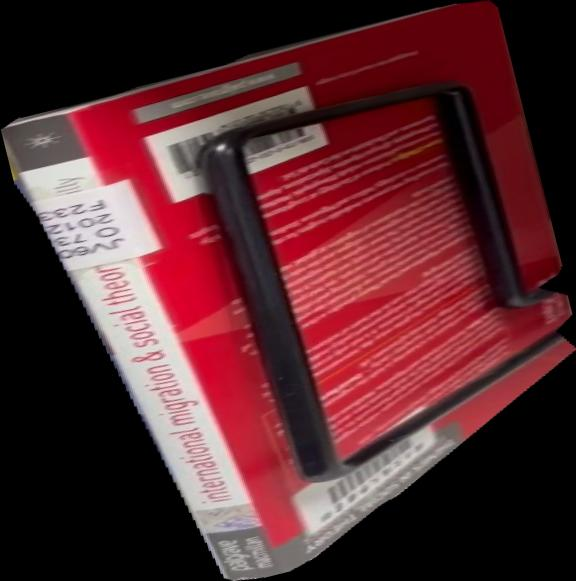reverse: (1, 1, 576, 581)
